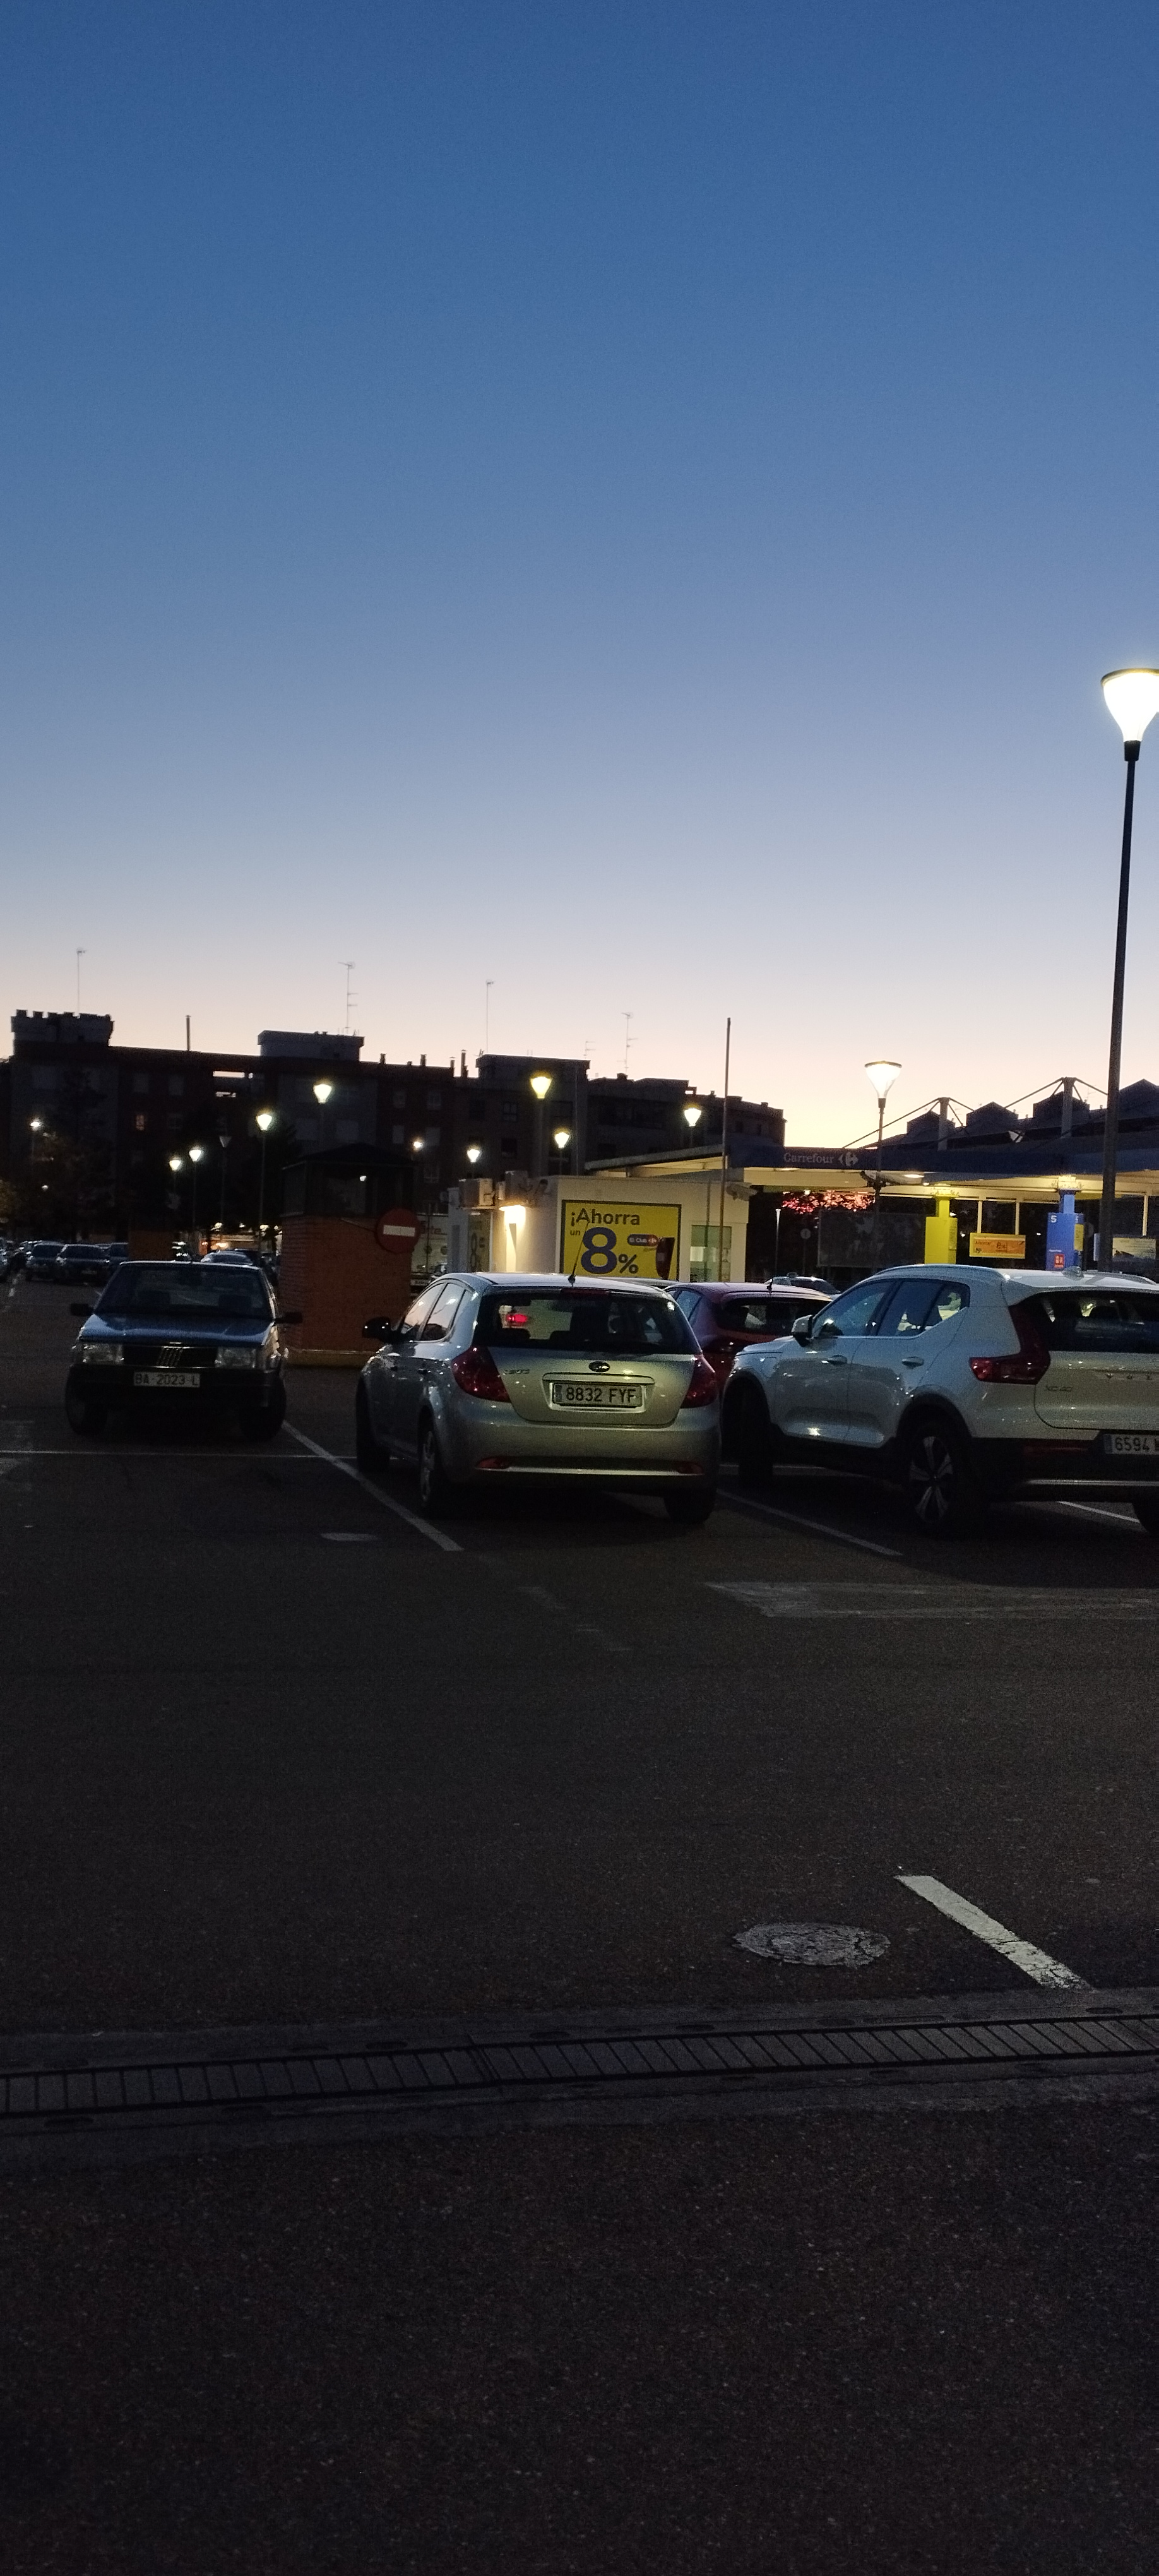Car: (357, 1273, 716, 1528), (67, 1258, 283, 1441)
Plate: (552, 1383, 643, 1407), (132, 1371, 201, 1386)
